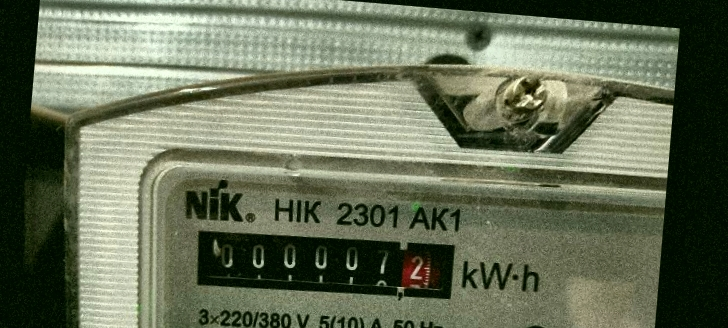0: (310, 242, 330, 270), (248, 240, 267, 269), (279, 240, 298, 269), (216, 240, 235, 268), (342, 243, 360, 272)
2: (407, 254, 425, 281)
7: (373, 245, 391, 276)
screen: (181, 216, 466, 311)
